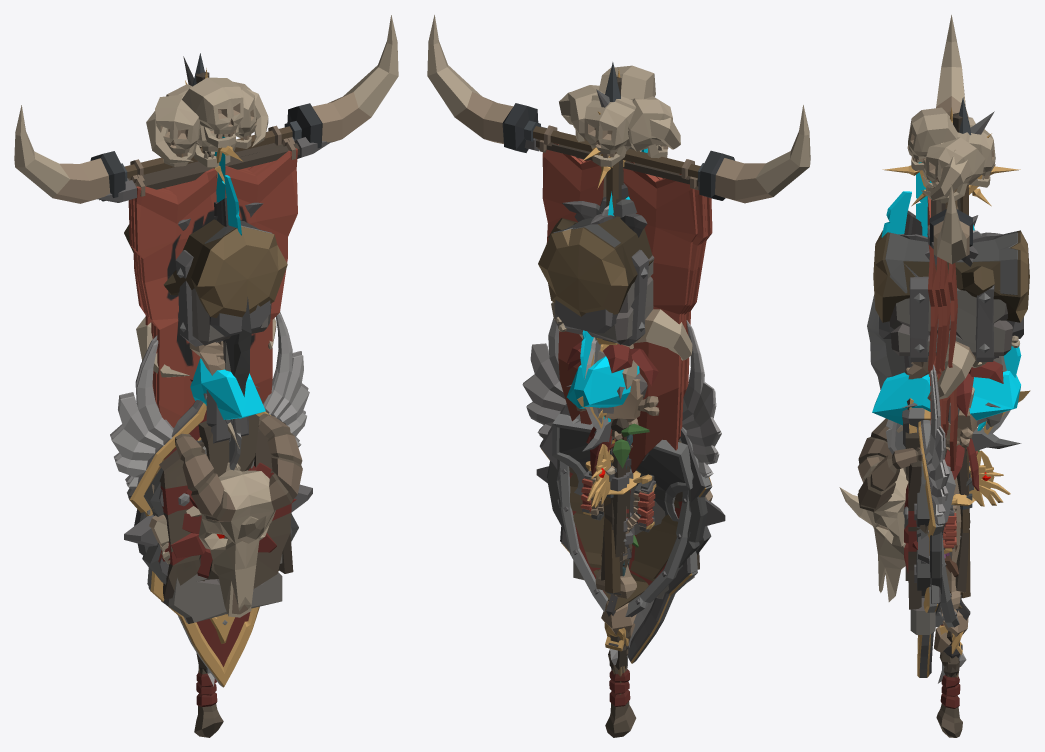
Rendered from Weapons.fbx.
The picture shows the model from 3 angles, left to right: view 1: azimuth 30°, elevation 25°; view 2: azimuth 150°, elevation 25°; view 3: azimuth 270°, elevation 25°; orthographic projection. The views are drawn at different scales.
Visible parts, largest first — view 1: SM_Wep_Banner_03, SM_Wep_Shield_Skull_01, SM_Wep_Shield_Ornate_01, SM_Wep_Banner_05, SM_Wep_Hammer_Large_Wood_01, SM_Wep_Shield_Plank_01, SM_Wep_Shield_Spike_01, SM_Wep_Banner_04, SM_Wep_Goblin_Staff_01, SM_Wep_Shield_Gravestone_01, SM_Wep_Goblin_Gem_Hammer_01, SM_Wep_Hammer_Large_Stone_01 (+7 smaller); view 2: SM_Wep_Banner_05, SM_Wep_Shield_Ornate_02, SM_Wep_Hammer_Large_Wood_01, SM_Wep_Banner_03, SM_Wep_Goblin_Staff_01, SM_Wep_Shield_Heater_01, SM_Wep_Banner_04, SM_Wep_Shield_Chitin_01, SM_Wep_Shield_Heater_02, SM_Wep_Goblin_Gem_Hammer_01, SM_Wep_Hammer_Large_Stone_01, SM_Wep_Shield_Round_01 (+8 smaller); view 3: SM_Wep_Shield_Skull_01, SM_Wep_Banner_05, SM_Wep_Hammer_Large_Stone_01, SM_Wep_Banner_03, SM_Wep_Goblin_Staff_01, SM_Wep_Hammer_Large_Wood_01, SM_Wep_Goblin_Gem_Hammer_01, SM_Wep_Shield_Ornate_01, SM_Wep_Hammer_Large_Metal_010, SM_Wep_Banner_04, SM_Wep_Shield_Plank_01, SM_Wep_Goblin_Axe_Large_01 (+21 smaller).
Boxes of the visible parts, box(x1,y1,x2,y2) form: SM_Wep_Banner_03: box(97, 77, 331, 427); SM_Wep_Shield_Skull_01: box(143, 413, 302, 617); SM_Wep_Shield_Ornate_01: box(111, 313, 309, 687); SM_Wep_Banner_05: box(14, 15, 398, 390); SM_Wep_Hammer_Large_Wood_01: box(124, 219, 287, 317); SM_Wep_Shield_Plank_01: box(152, 414, 293, 599); SM_Wep_Shield_Spike_01: box(124, 462, 312, 578); SM_Wep_Banner_04: box(99, 71, 295, 388); SM_Wep_Goblin_Staff_01: box(136, 317, 276, 737); SM_Wep_Shield_Gravestone_01: box(161, 446, 282, 623); SM_Wep_Goblin_Gem_Hammer_01: box(190, 358, 265, 419); SM_Wep_Hammer_Large_Stone_01: box(175, 250, 271, 346); SM_Wep_Banner_05: box(427, 15, 810, 593); SM_Wep_Shield_Ornate_02: box(522, 318, 720, 661); SM_Wep_Hammer_Large_Wood_01: box(538, 197, 653, 558); SM_Wep_Banner_03: box(541, 65, 712, 567); SM_Wep_Goblin_Staff_01: box(551, 302, 692, 737); SM_Wep_Shield_Heater_01: box(552, 413, 692, 571); SM_Wep_Banner_04: box(524, 77, 705, 576); SM_Wep_Shield_Chitin_01: box(570, 440, 681, 610); SM_Wep_Shield_Heater_02: box(559, 461, 691, 617); SM_Wep_Goblin_Gem_Hammer_01: box(566, 344, 643, 637); SM_Wep_Hammer_Large_Stone_01: box(554, 249, 654, 563); SM_Wep_Shield_Round_01: box(547, 459, 707, 567); SM_Wep_Shield_Skull_01: box(857, 418, 954, 601); SM_Wep_Banner_05: box(930, 15, 972, 598); SM_Wep_Hammer_Large_Stone_01: box(889, 276, 1012, 558); SM_Wep_Banner_03: box(907, 107, 995, 424); SM_Wep_Goblin_Staff_01: box(904, 341, 1003, 737); SM_Wep_Hammer_Large_Wood_01: box(873, 230, 1029, 322); SM_Wep_Goblin_Gem_Hammer_01: box(872, 370, 1020, 652); SM_Wep_Shield_Ornate_01: box(917, 369, 954, 677); SM_Wep_Hammer_Large_Metal_010: box(885, 231, 1017, 295); SM_Wep_Banner_04: box(921, 112, 971, 435); SM_Wep_Shield_Plank_01: box(903, 432, 928, 609); SM_Wep_Goblin_Axe_Large_01: box(867, 295, 1019, 666).
Size of the model in its own units: 179 by 305 by 82.52.
